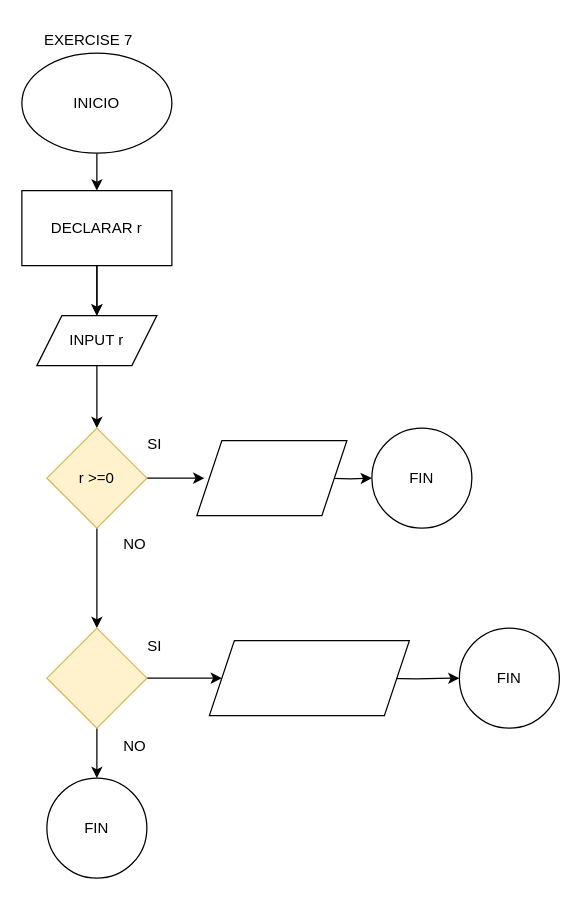
Some shapes in this 581 by 900 pixel diagram are drawn without their labels. Each missing label, with the box of its shape:
OUTPUT " Error: Radius cannot be negative.": (208, 639, 409, 716)
OUTPUT 4 * 3.14 * (r * r): (196, 439, 347, 516)
r < 0: (46, 627, 147, 728)
